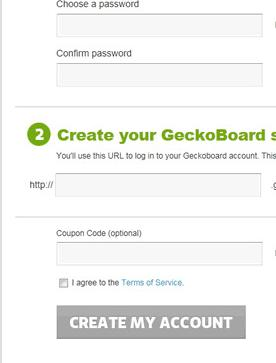button: (56, 304, 246, 339)
checkbox: (57, 275, 70, 288)
checkbox_with_label: (54, 274, 182, 289)
field: (53, 10, 264, 38), (51, 171, 263, 198), (53, 240, 263, 267), (54, 61, 263, 88)
field_with_label: (50, 228, 265, 269), (51, 49, 265, 90), (49, 0, 266, 40), (29, 169, 265, 200)
